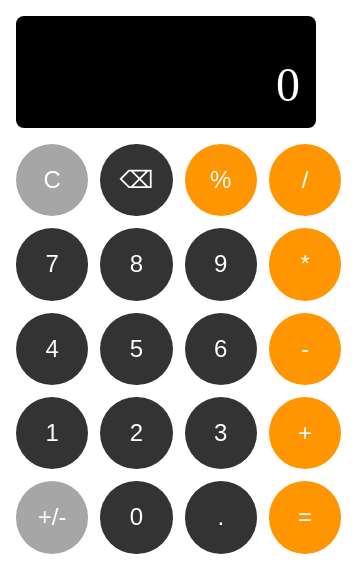
Test case: Calculadora › muestra los números presionados uno tras otro
Click the button "1" at (52, 433), box [16, 397, 88, 469]
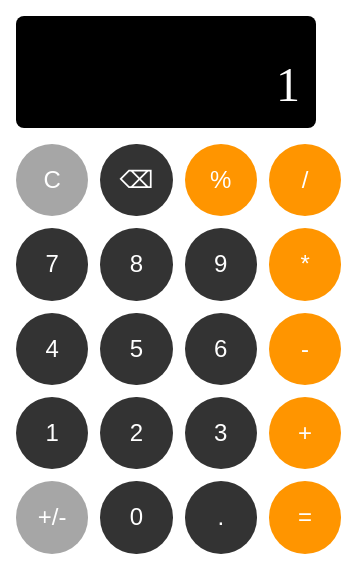
Click the button "2" at (136, 433), box [100, 397, 173, 469]
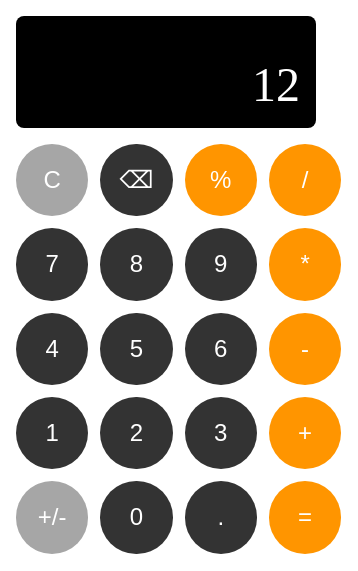
Click the button "3" at (221, 433), box [185, 397, 257, 469]
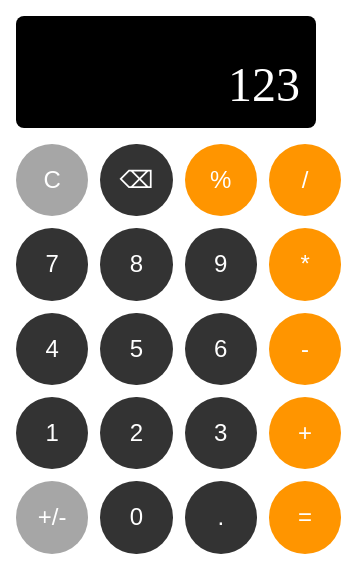
Expected: the text with test id "display" reads "123", [228, 58, 300, 111]
